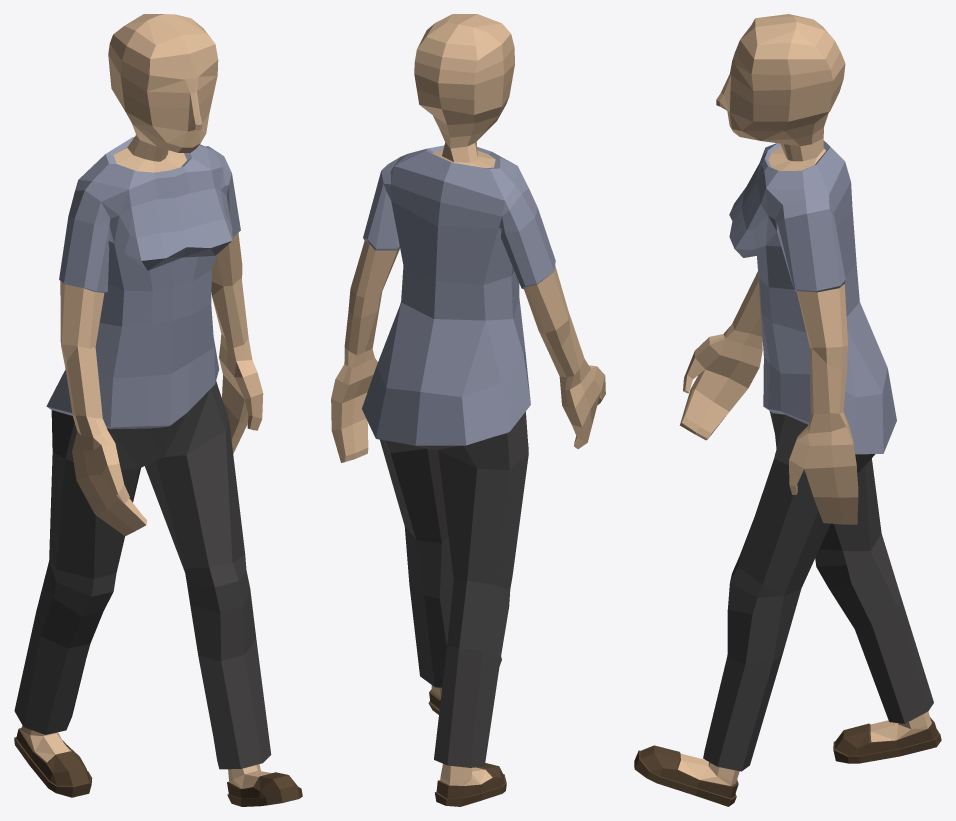
The model's file is Female_Walking.glb.
3 renders of one model, left to right at view 1: azimuth 30°, elevation 25°; view 2: azimuth 150°, elevation 25°; view 3: azimuth 270°, elevation 25°, orthographic. The views are drawn at different scales.
Visible parts, largest first — view 1: Female_Walking; view 2: Female_Walking; view 3: Female_Walking.
Part boxes in pixels (x1,y1,x2,y2): Female_Walking: (14, 14, 302, 806); Female_Walking: (331, 14, 605, 806); Female_Walking: (634, 14, 941, 806).
Bounding box in the file's own units: 1.06 × 3.71 × 1.35.
